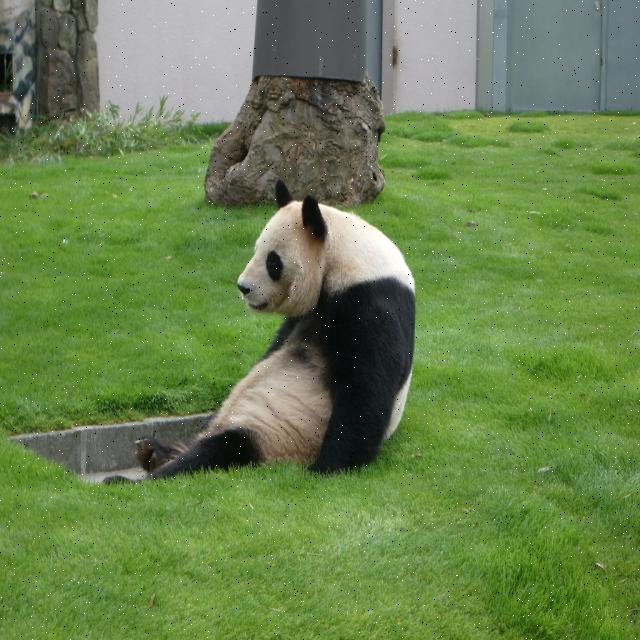panda: (101, 178, 416, 487)
